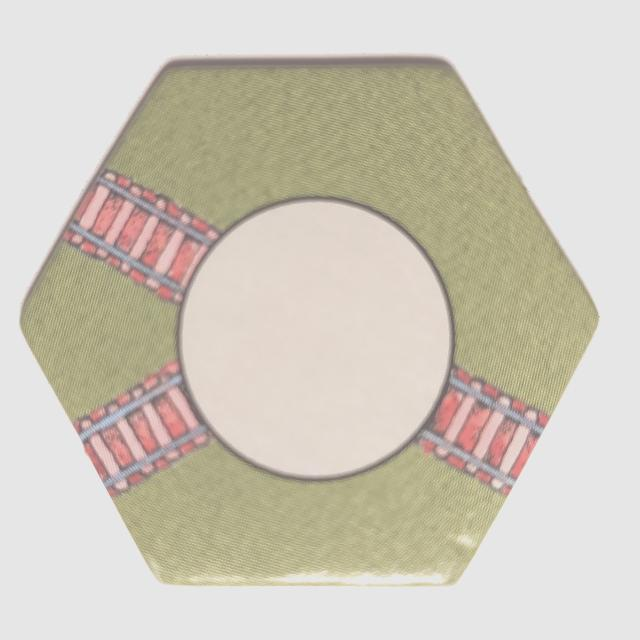14_3: (18, 59, 599, 588)
